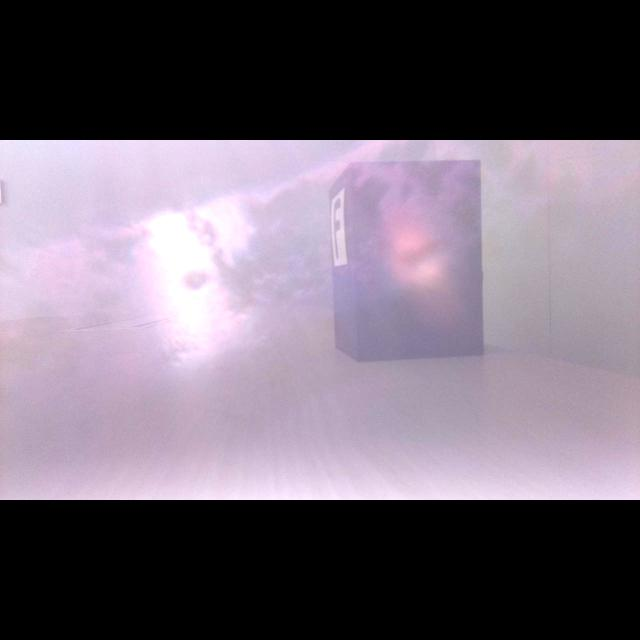F: (333, 199, 341, 260)
